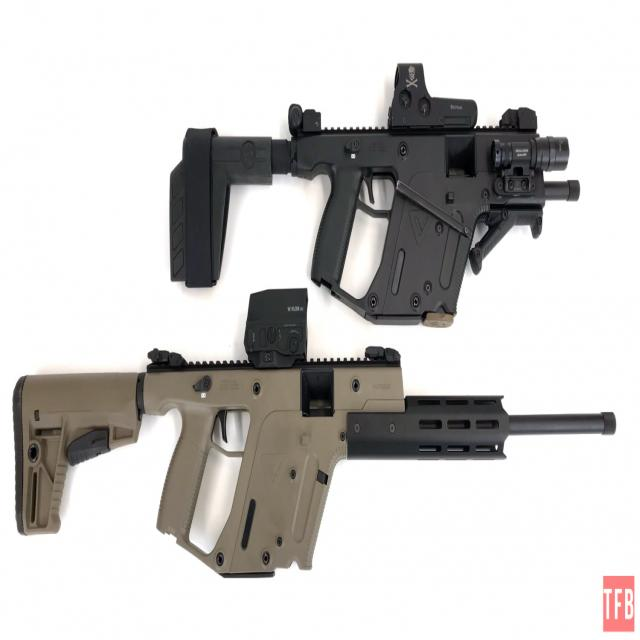SMG: (12, 291, 617, 581), (170, 63, 579, 326)
